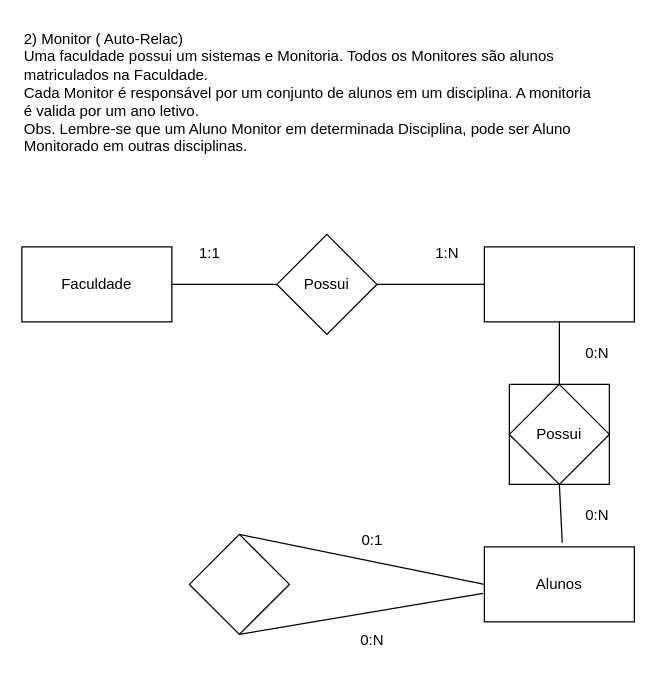
This 656x680 diagram has some shape labels left out. The centre of each missing label's shape, as x and y in pixels:
Disciplina: point 558,284
É monitor: point 238,583
